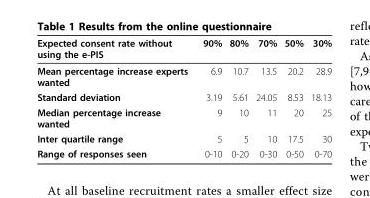table: (36, 36, 331, 159)
table column: (36, 36, 194, 159), (194, 36, 225, 159), (251, 36, 279, 159), (279, 36, 306, 159), (225, 36, 251, 159), (306, 36, 331, 159)
table column header: (36, 36, 331, 62)
table row: (36, 62, 331, 89), (36, 36, 331, 62), (36, 104, 331, 130), (36, 89, 331, 104), (36, 130, 331, 145), (36, 145, 331, 159)
